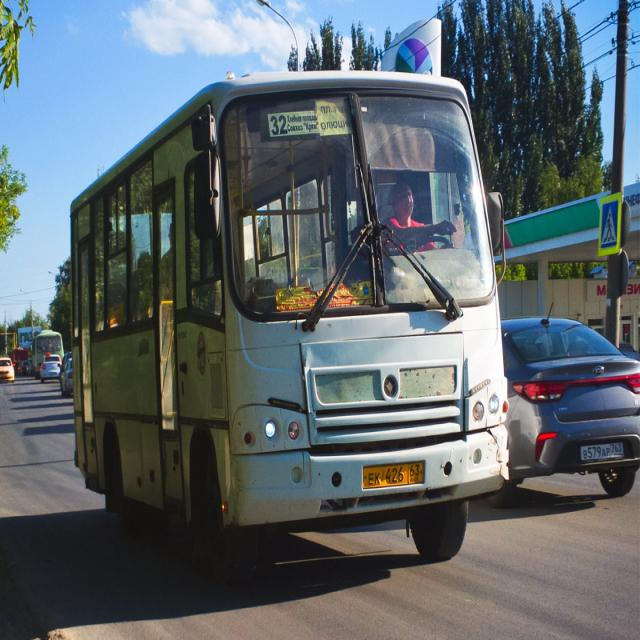number-of-bus: (269, 114, 289, 138)
